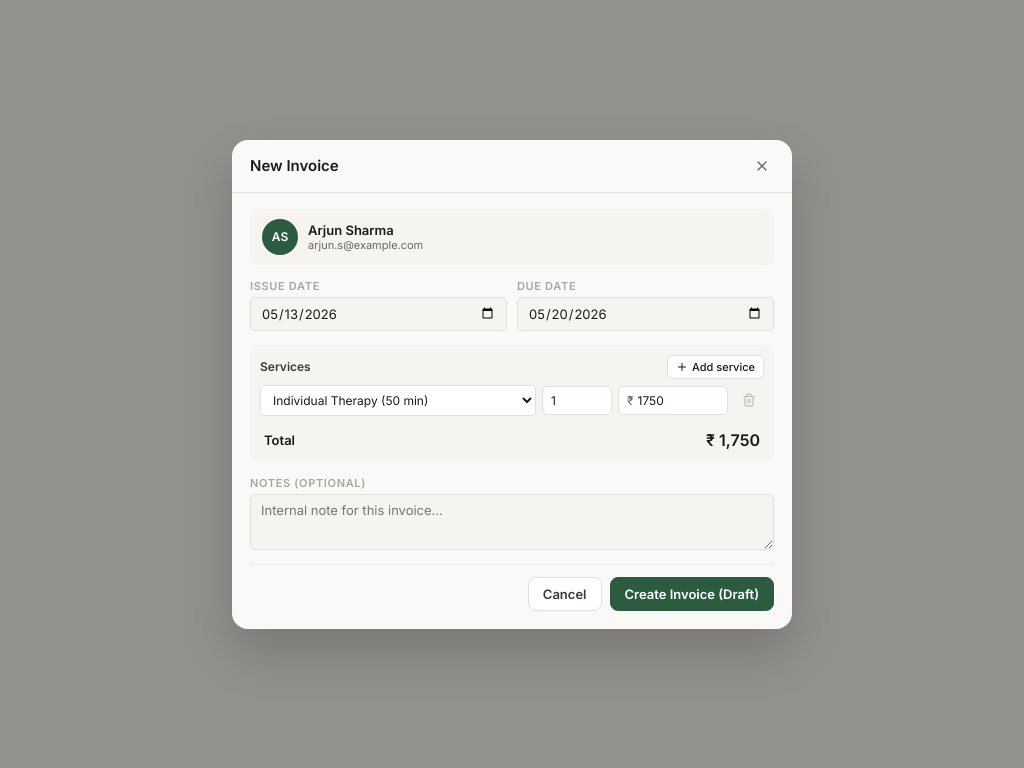
Test: <AddInvoiceModal> › adds and removes service line items, recalculating total
Expected: the text "₹ 1,750" is shown, [706,430,760,450]
Click the button "Add service" at (716, 366), box [667,354,764,378]
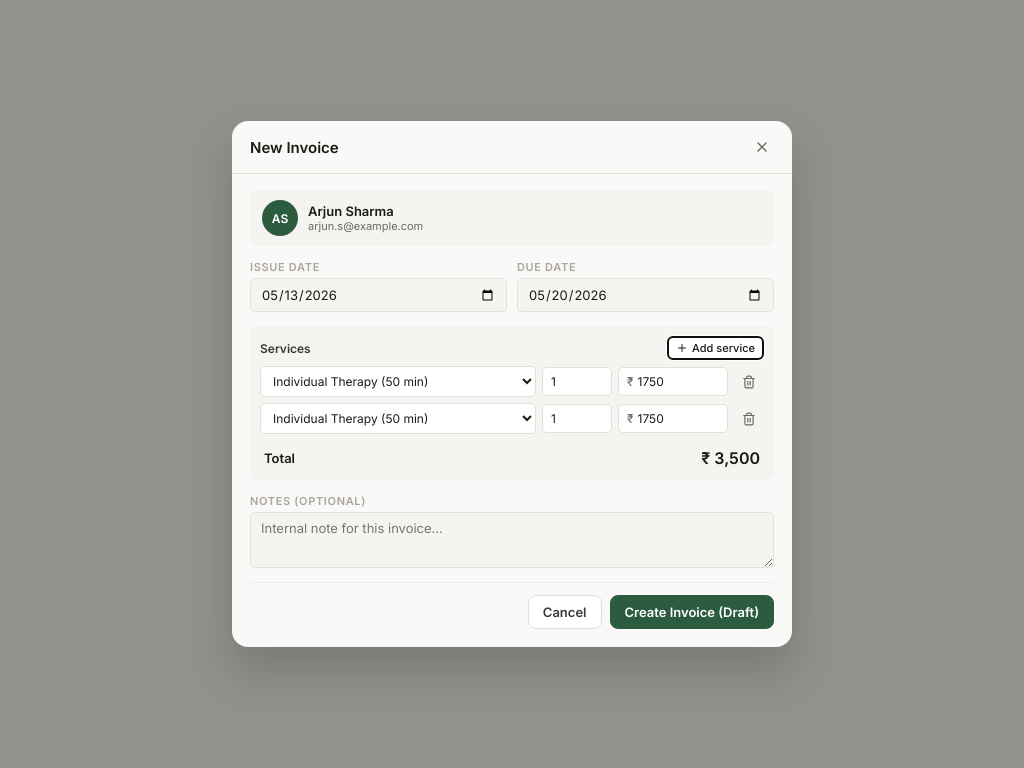
Now the text "₹ 3,500" is shown, box [701,448,760,468]
Now the number of buttons named "Remove line" is 2
Remove the first line
Click the 1st button named "Remove line" at (749, 382), box [734,368,764,394]
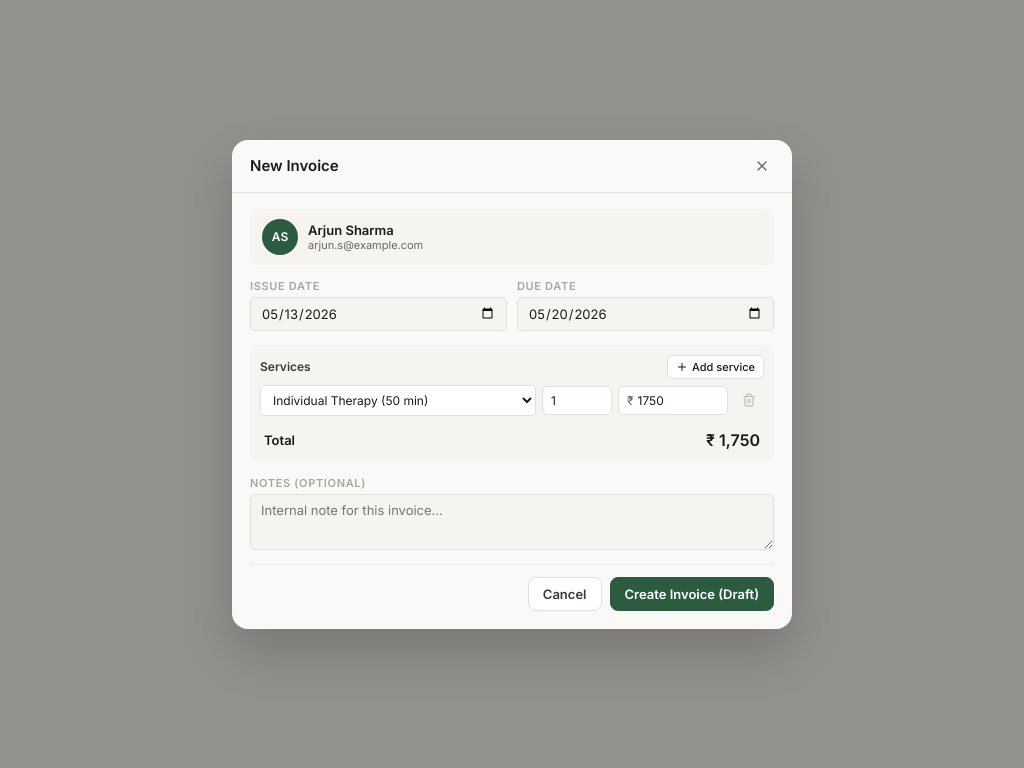
Now the text "₹ 1,750" is shown, box [706,430,760,450]
Now the number of buttons named "Remove line" is 1, box [734,387,764,413]
